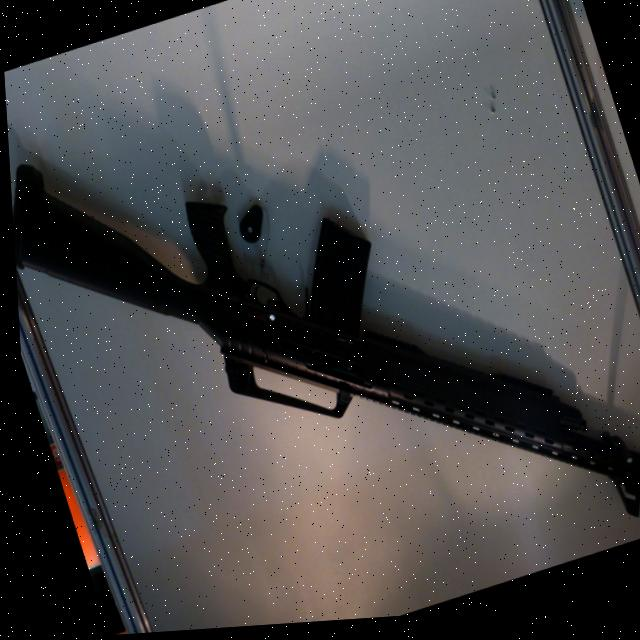firearm: (1, 0, 640, 640)
